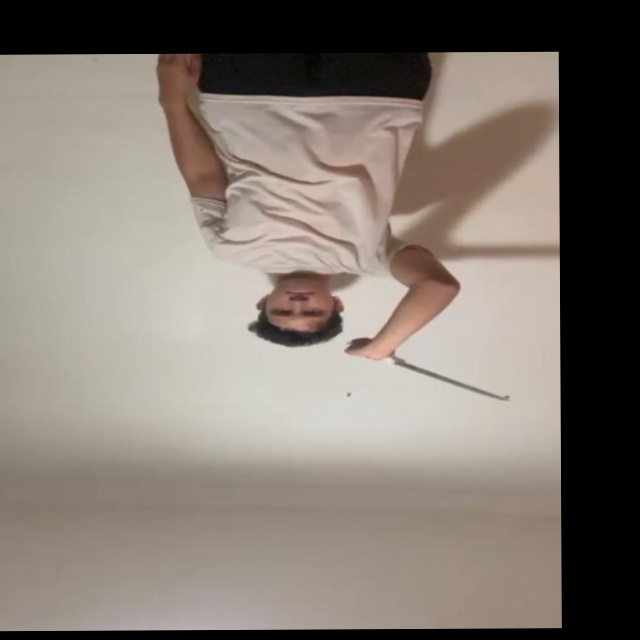Sharp-Object: (398, 363, 504, 400)
